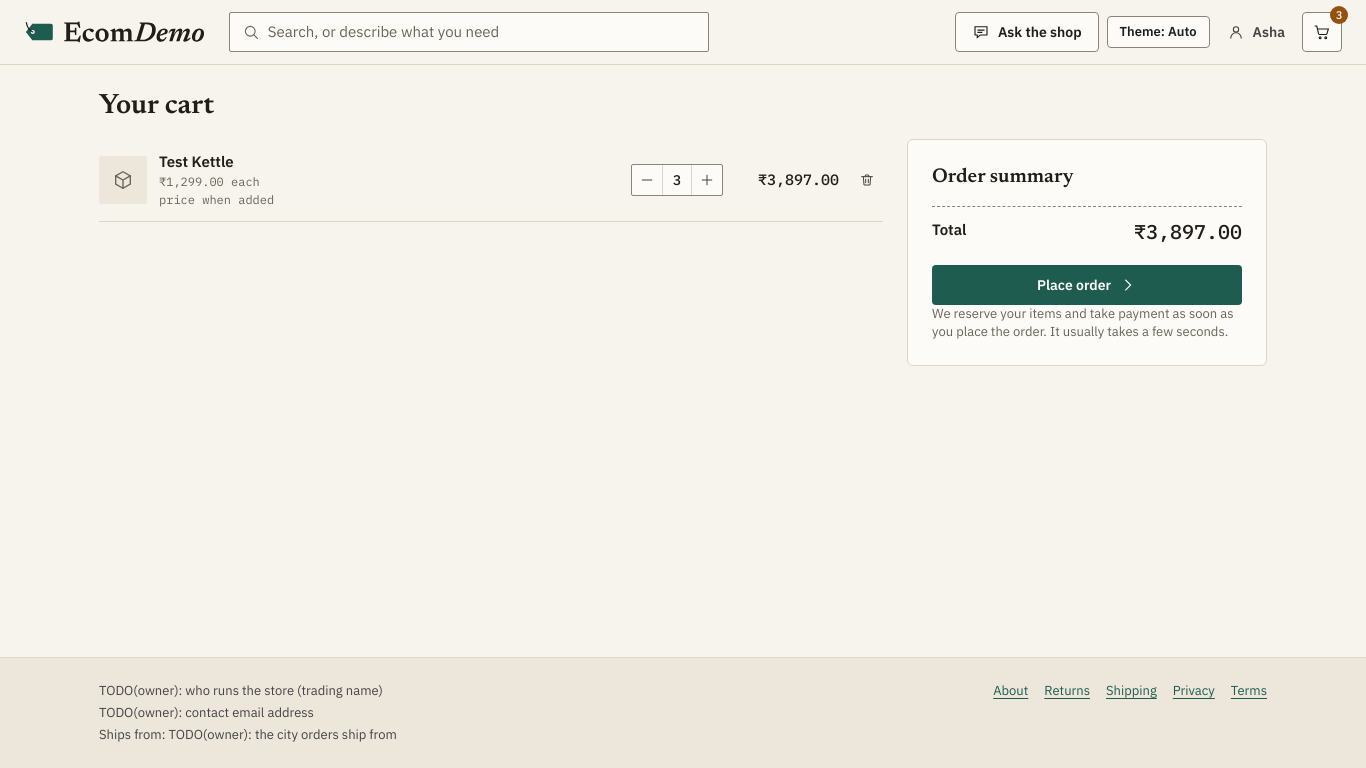
Test: the cart page › removes a line and offers Undo, which adds it back
Check: the heading "Your cart" is shown, box [99,89,214,123]
Step 1. Click the button named "Remove Test Kettle" → (867, 180), box [851,164,883,196]
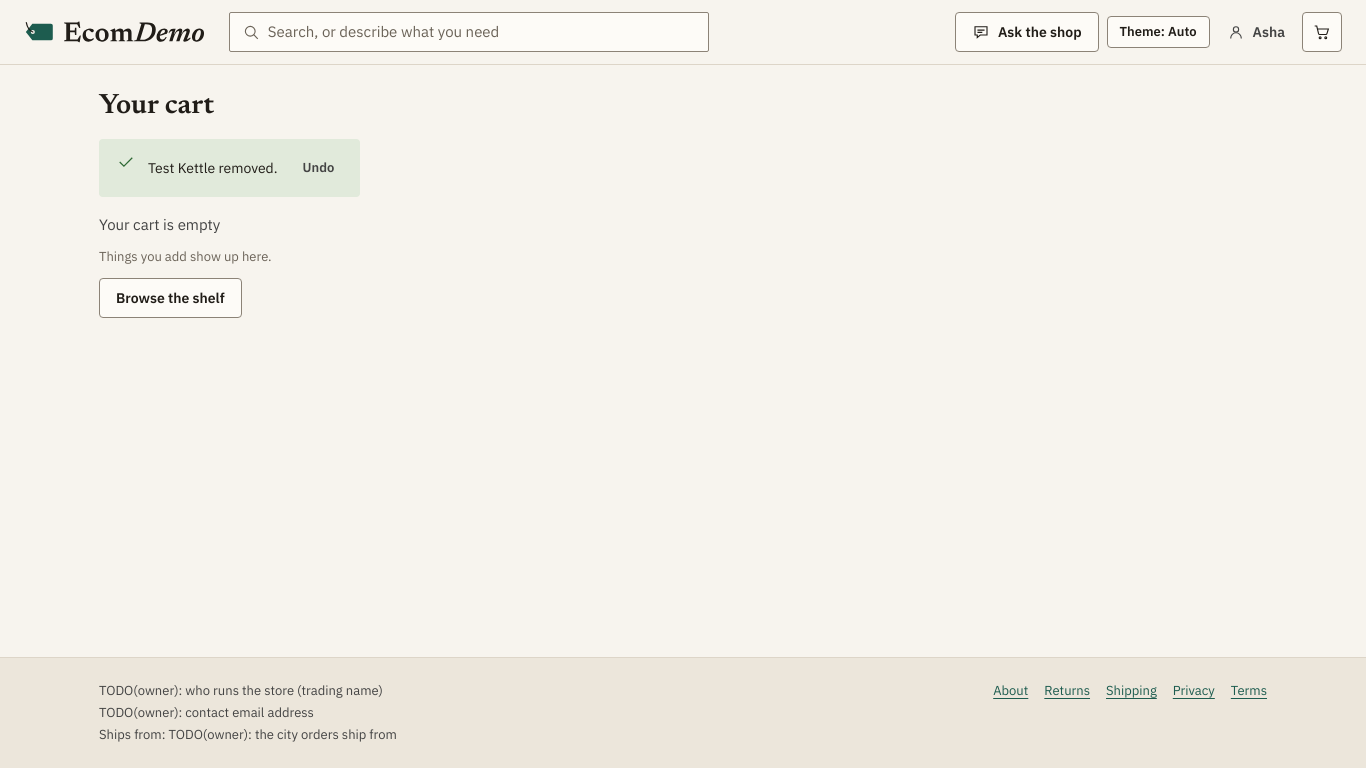
Check: the text "Test Kettle removed." is shown, box [148,158,278,178]
Check: the text "Your cart is empty" is shown, box [99,213,220,236]
Step 2. Click the button "Undo" → (318, 168), box [294,152,343,184]
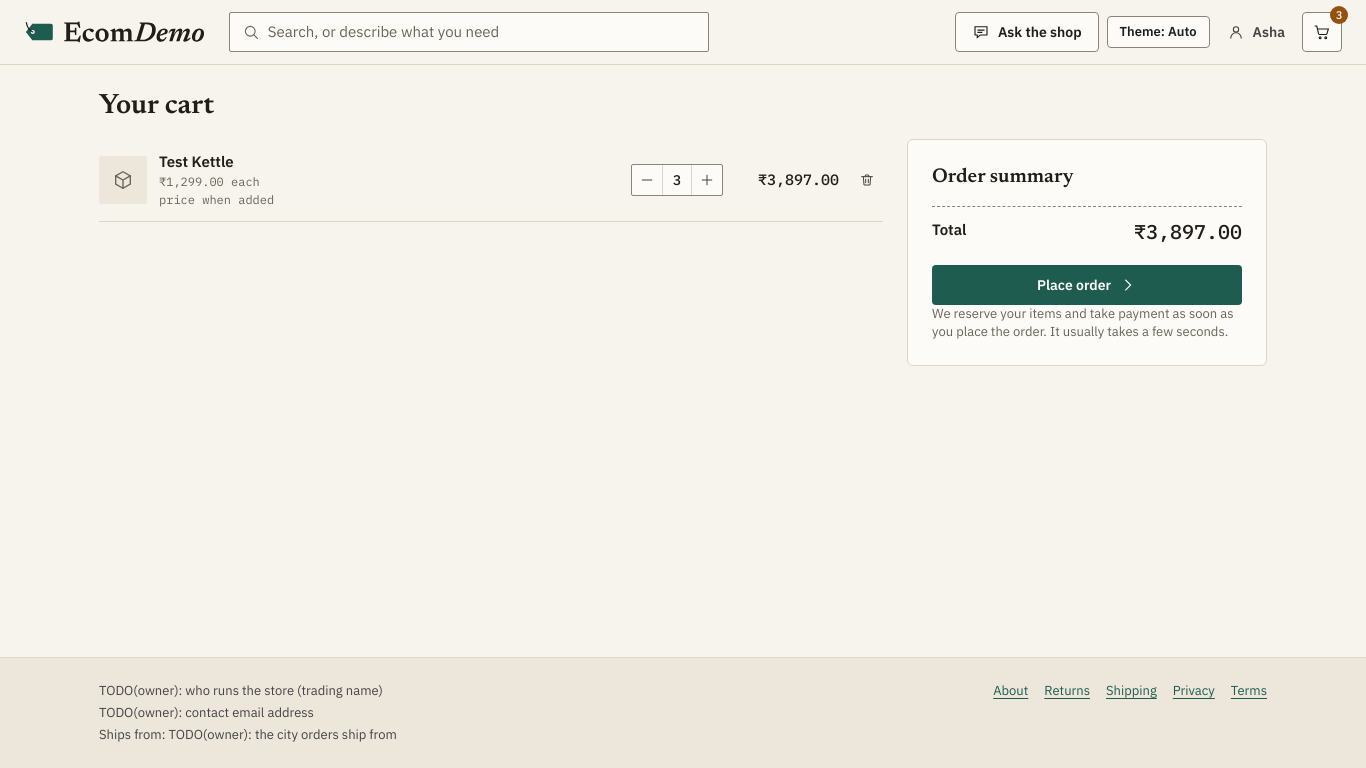
Check: the text "₹3,897.00" in the row of "Total" is shown, box [1134,218,1242,245]
Check: the text "Test Kettle removed." is gone
